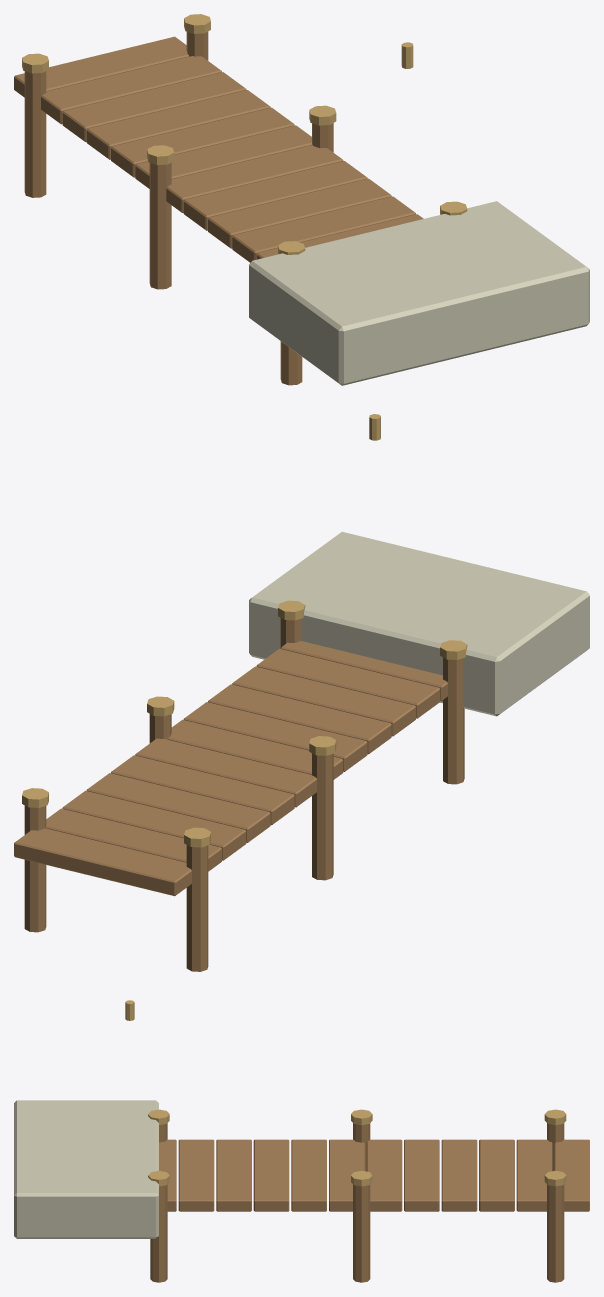
File: level_04.glb
3 renders of one model, top to bottom at view 1: azimuth 30°, elevation 25°; view 2: azimuth 150°, elevation 25°; view 3: azimuth 270°, elevation 25°, orthographic. The views are drawn at different scales.
Visible parts, largest first — view 1: dock — level 04; view 2: dock — level 04; view 3: dock — level 04.
Part boxes in pixels (box(x1,y1,x2,y2)): dock — level 04: box(14, 14, 589, 385); dock — level 04: box(14, 414, 589, 971); dock — level 04: box(14, 1000, 589, 1282).
Bounding box in the file's own units: 3.1 × 3.84 × 7.95.
